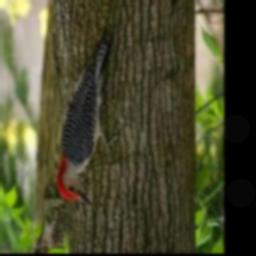Woodpecker: (56, 36, 117, 207)
